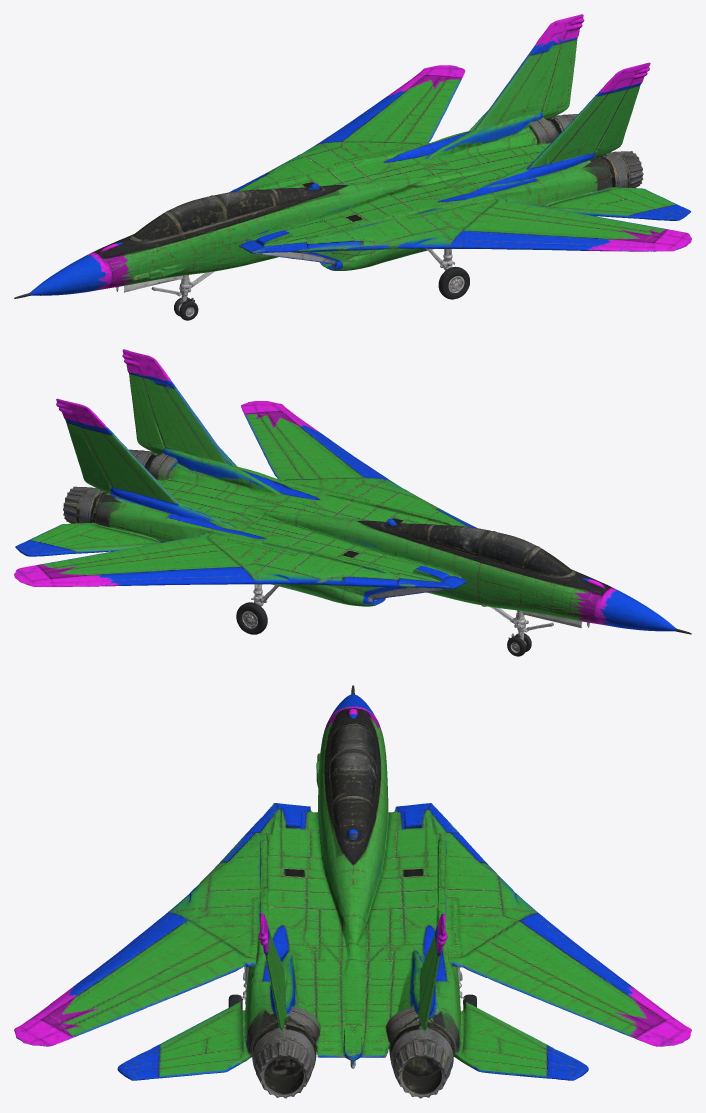
3 renders of one model, top to bottom at view 1: azimuth 30°, elevation 25°; view 2: azimuth 150°, elevation 25°; view 3: azimuth 270°, elevation 25°, orthographic. The views are drawn at different scales.
Parts seen in each view (by area): view 1: output_unwrapped; view 2: output_unwrapped; view 3: output_unwrapped.
Boxes of the visible parts, x1,y1,x2,y2 form: output_unwrapped: [14, 14, 691, 320]; output_unwrapped: [14, 349, 691, 656]; output_unwrapped: [14, 685, 691, 1098].
Bounding box in the file's own units: 1.9 × 0.5374 × 1.36.
Materials: 1 (1 with a texture image).
